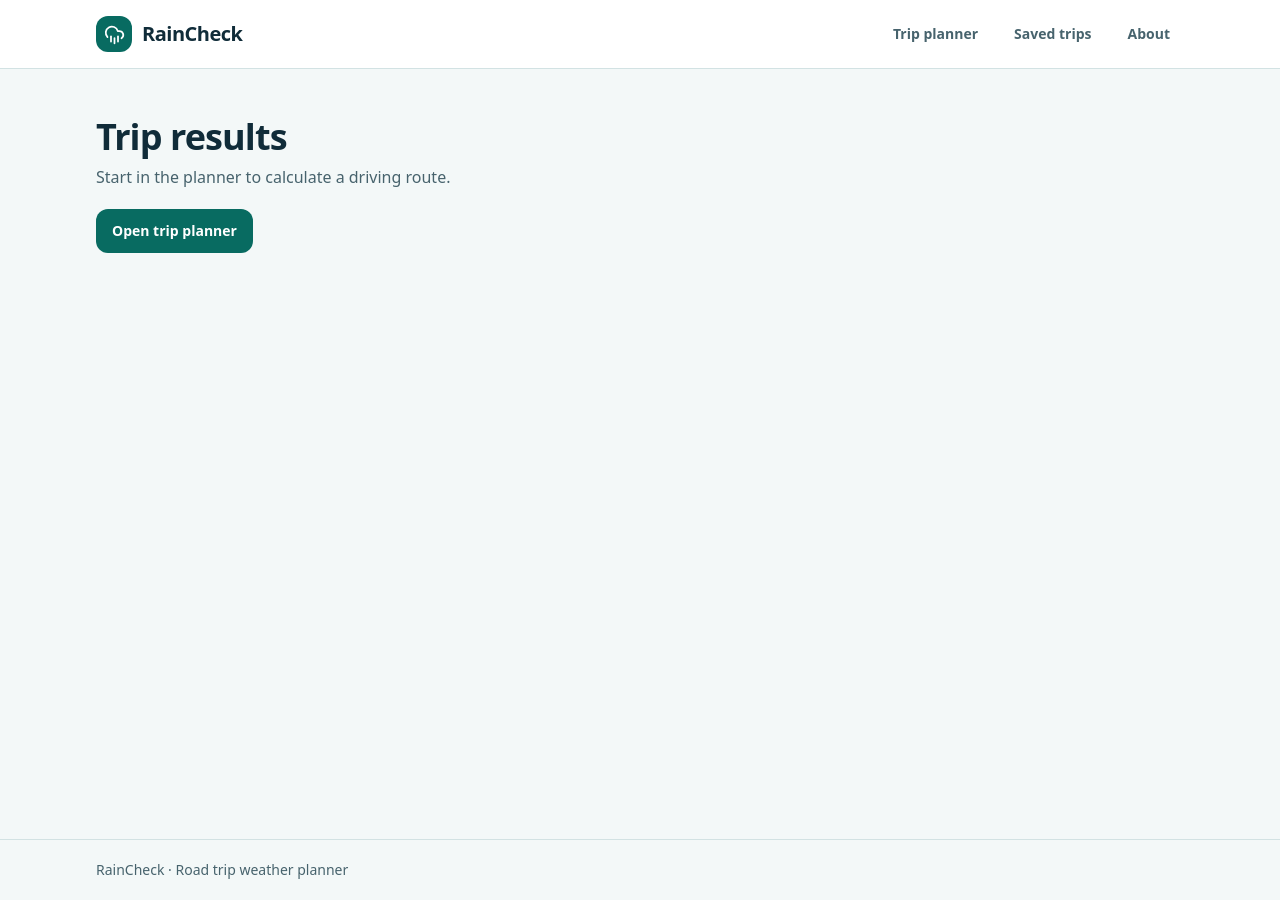
Test case: provides a results fallback and exposes the active page in navigation
This screenshot has width=1280, height=900.
Click the link "Open trip planner". click: (174, 231)
box: [96, 209, 253, 253]
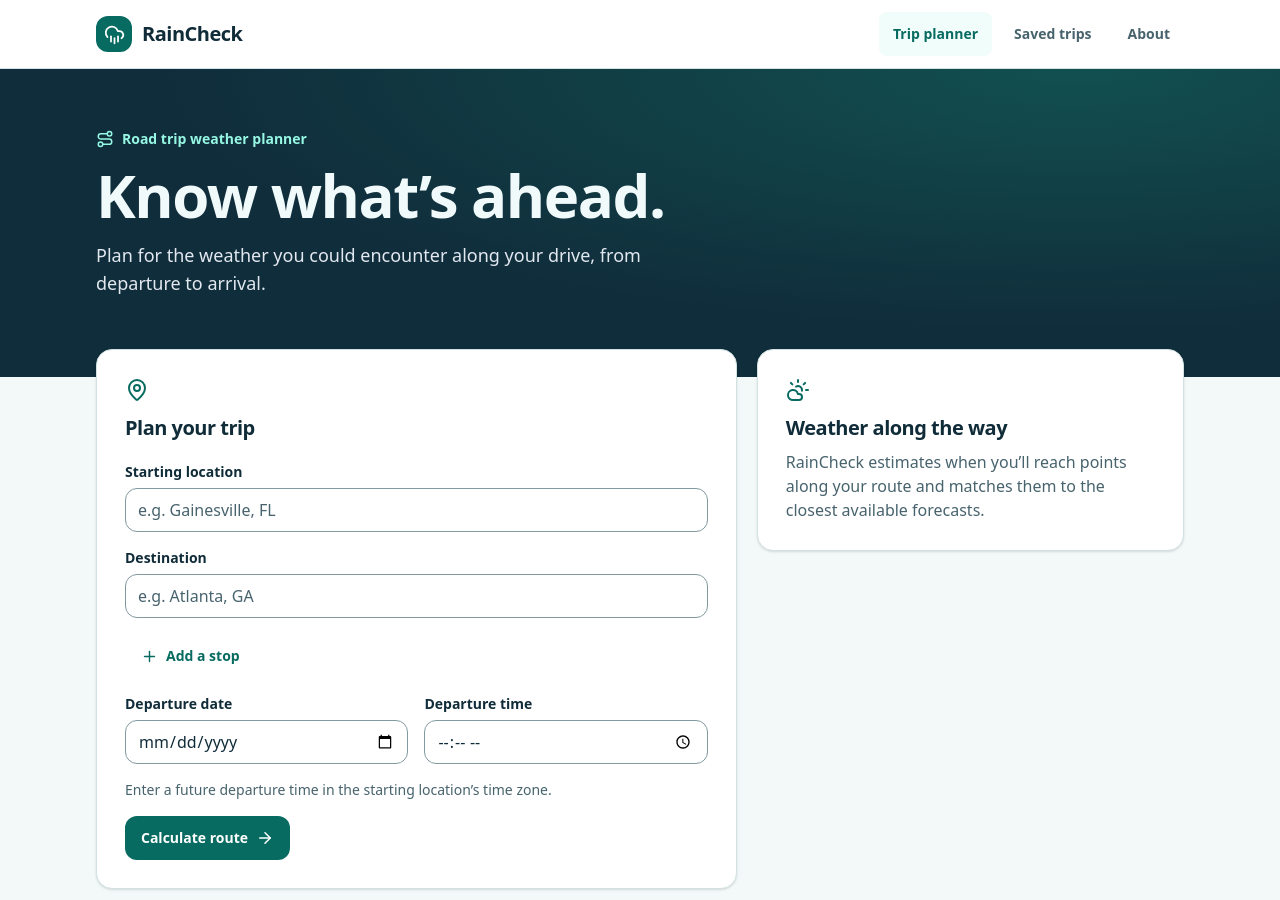
Now the heading "Plan your trip" is shown, box [125, 414, 255, 441]
Click the link "About". click: (1149, 34)
box: [1128, 24, 1170, 43]
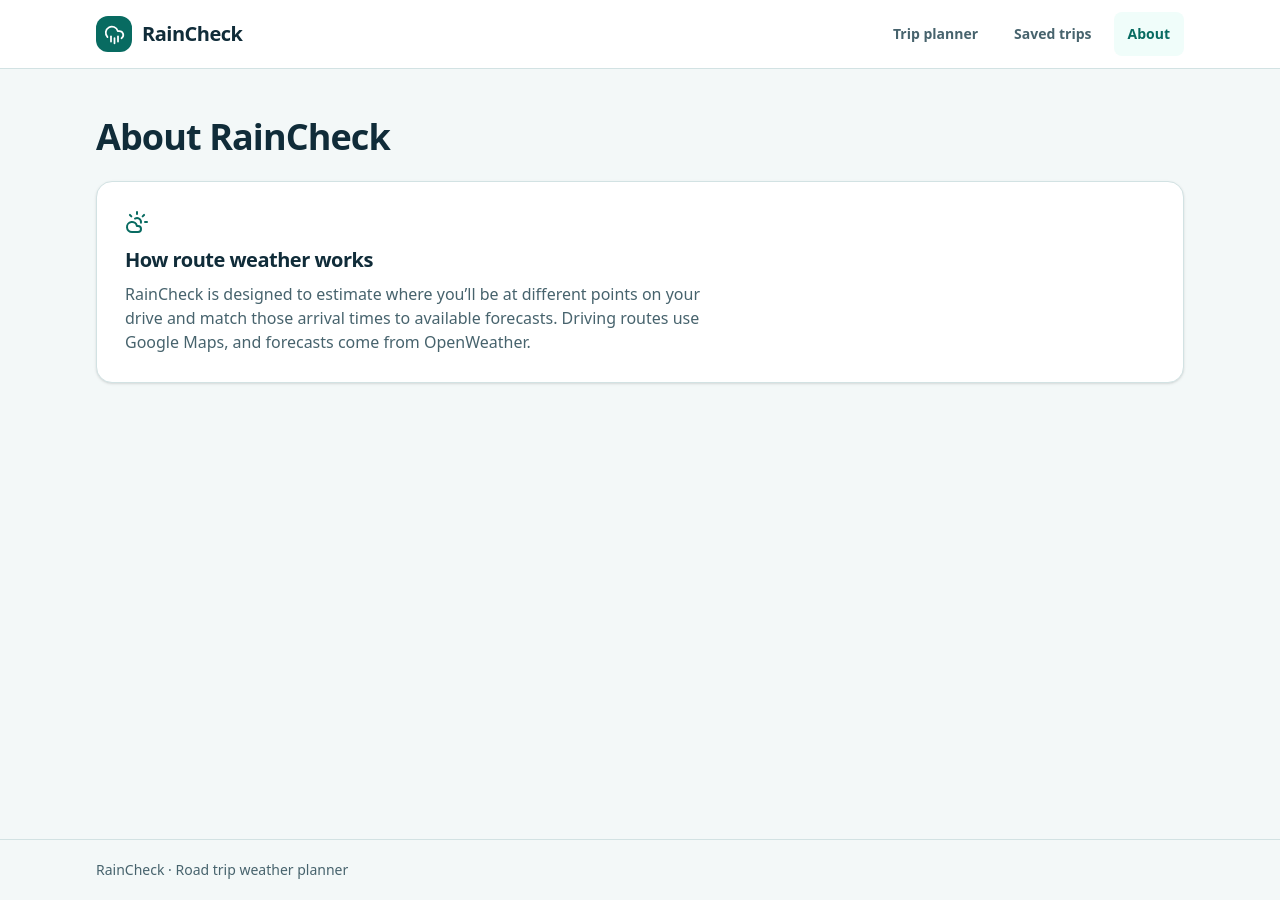
Now the heading "About RainCheck" is shown, box [96, 112, 390, 161]
